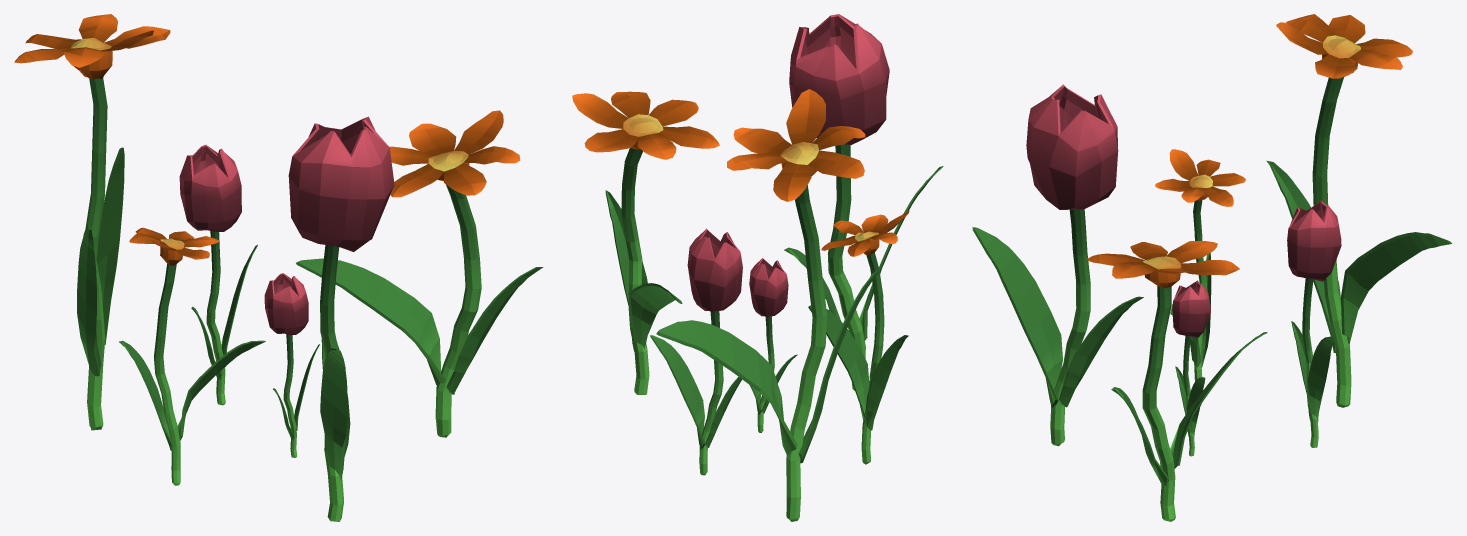
The model's file is Flowers 1.fbx.
The picture shows the model from 3 angles, left to right: view 1: azimuth 30°, elevation 25°; view 2: azimuth 150°, elevation 25°; view 3: azimuth 270°, elevation 25°; orthographic projection. The views are drawn at different scales.
Parts seen in each view (by area): view 1: Flowers_LOD0; view 2: Flowers_LOD0; view 3: Flowers_LOD0.
Part boxes in pixels (left/top/right/bottom): Flowers_LOD0: left=14, top=14, right=543, bottom=521; Flowers_LOD0: left=572, top=14, right=943, bottom=521; Flowers_LOD0: left=972, top=14, right=1451, bottom=521.
Size of what is drawn, in the model's own units: 88.12 by 88.55 by 98.91.
Materials: 15 (15 with a texture image).
